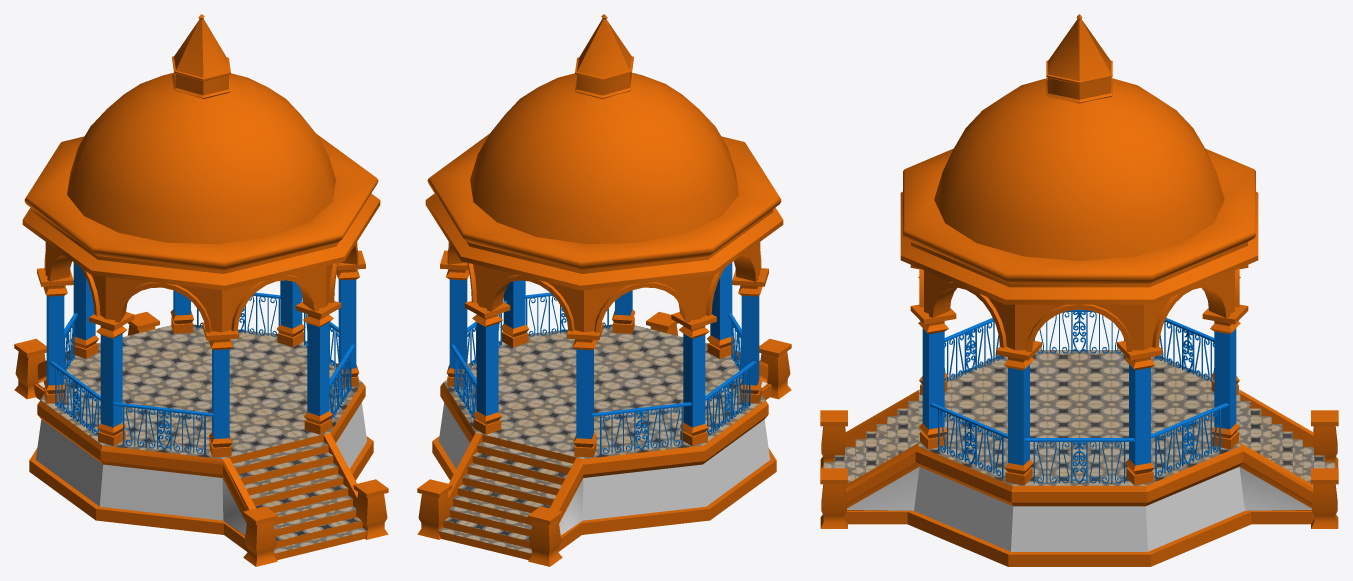
File: gazebo.fbx
3 renders of one model, left to right at view 1: azimuth 30°, elevation 25°; view 2: azimuth 150°, elevation 25°; view 3: azimuth 270°, elevation 25°, orthographic. The views are drawn at different scales.
Visible parts, largest first — view 1: gazebo; view 2: gazebo; view 3: gazebo.
Part boxes in pixels (bbox=[...]): gazebo: bbox=[14, 14, 388, 566]; gazebo: bbox=[417, 14, 791, 566]; gazebo: bbox=[820, 14, 1338, 566].
Bounding box in the file's own units: 849 × 1259 × 1230.
